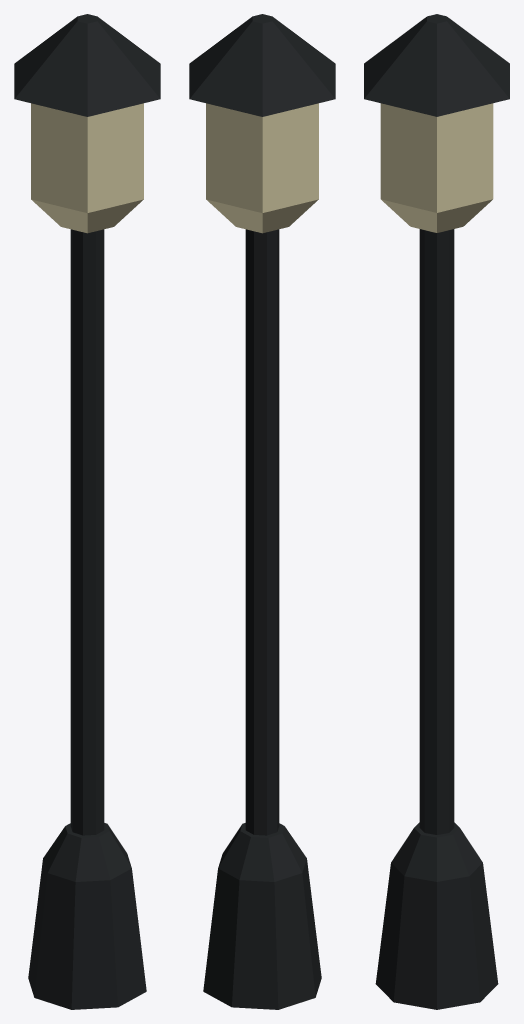
The model's file is lamp.glb.
3 renders of one model, left to right at view 1: azimuth 30°, elevation 25°; view 2: azimuth 150°, elevation 25°; view 3: azimuth 270°, elevation 25°, orthographic.
Visible parts, largest first — view 1: lamp; view 2: lamp; view 3: lamp.
Boxes of the visible parts, bbox=[...] form: lamp: bbox=[14, 14, 160, 1009]; lamp: bbox=[189, 14, 335, 1009]; lamp: bbox=[364, 14, 509, 1009].
Bounding box in the file's own units: 0.528 × 3.34 × 0.4573.
